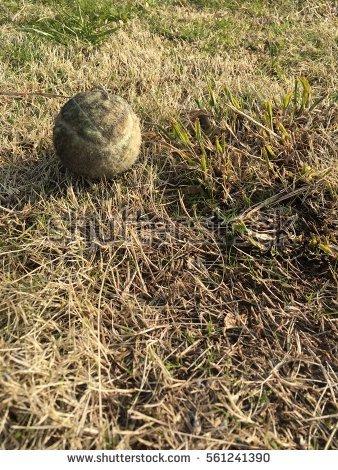tennis_ball: (52, 89, 142, 180)
